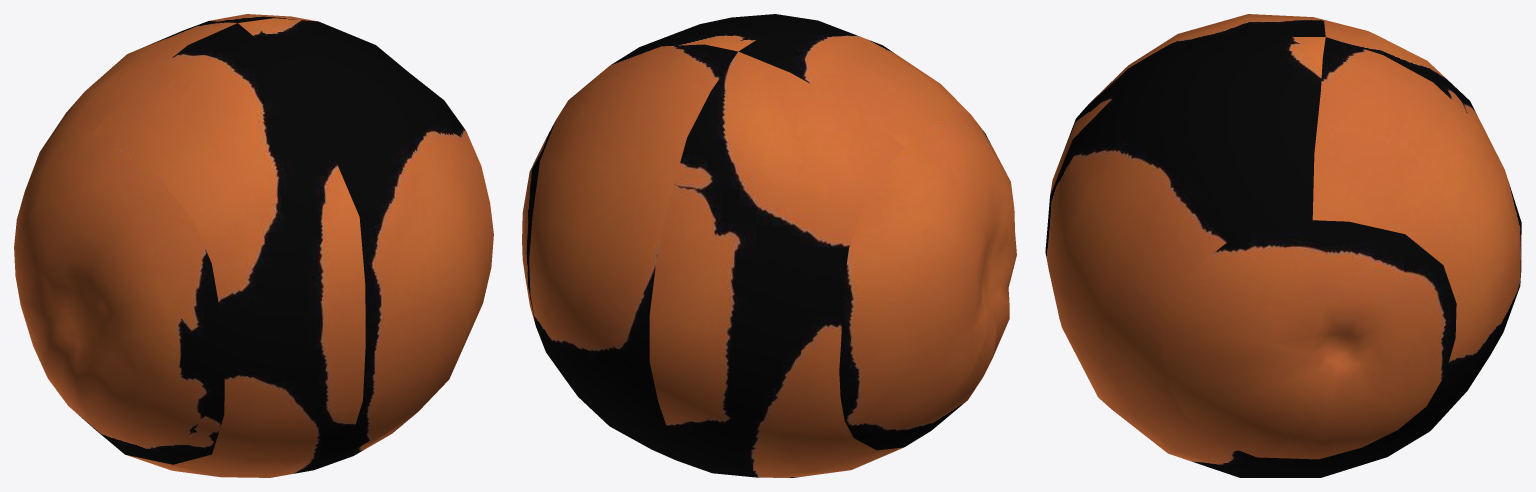
3 views of the same model, side by side, from view 1: azimuth 30°, elevation 25°; view 2: azimuth 150°, elevation 25°; view 3: azimuth 270°, elevation 25° (orthographic).
Bounding box in the file's own units: 1 × 0.9291 × 0.9551.
